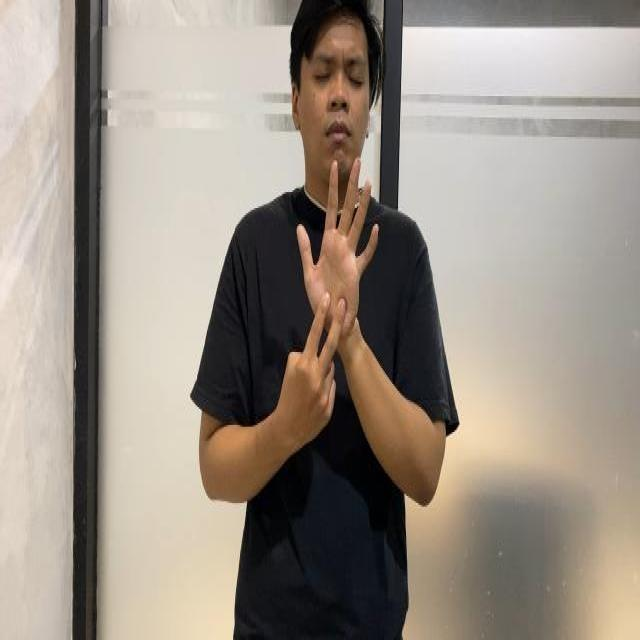N: (284, 154, 394, 368)
